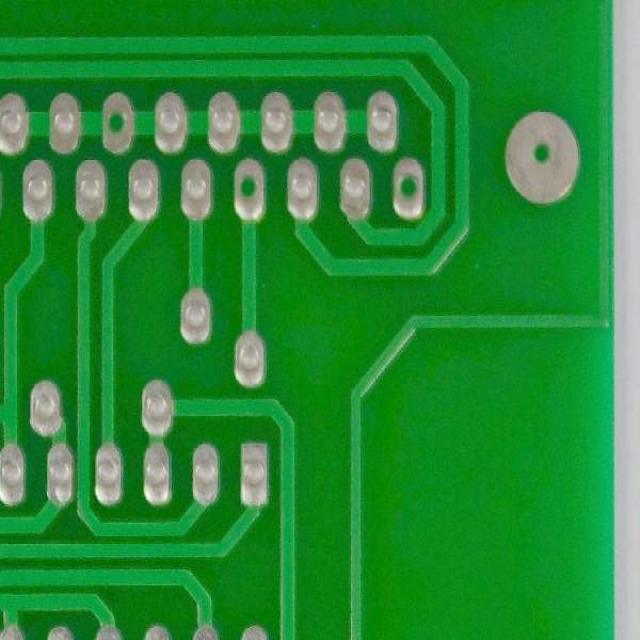missing hole: (494, 106, 584, 210), (387, 153, 433, 224), (229, 155, 271, 228), (98, 87, 139, 157)
